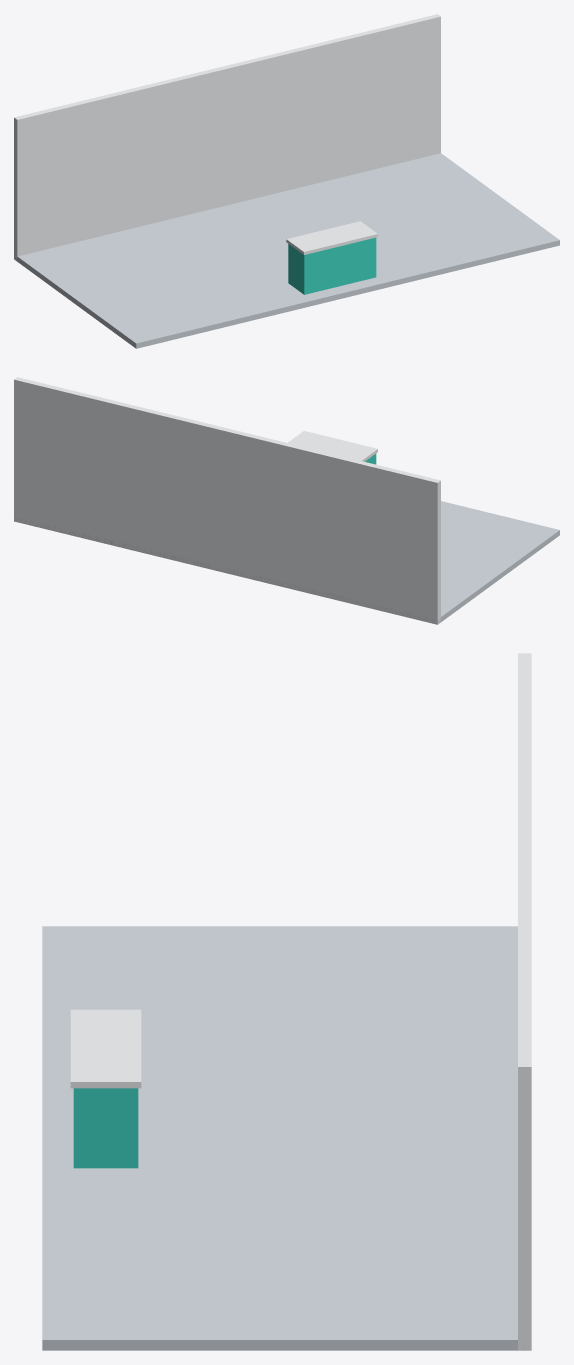
The picture shows the model from 3 angles, top to bottom: view 1: azimuth 30°, elevation 25°; view 2: azimuth 150°, elevation 25°; view 3: azimuth 270°, elevation 25°; orthographic projection. The views are drawn at different scales.
Parts seen in each view (by area): view 1: Exhibition Booth Concept; view 2: Exhibition Booth Concept; view 3: Exhibition Booth Concept.
Part boxes in pixels (x1,y1,x2,y2): Exhibition Booth Concept: (14,14,559,348); Exhibition Booth Concept: (14,377,559,624); Exhibition Booth Concept: (42,653,531,1350).
Size of the model in its own units: 10 by 3.2 by 5.
